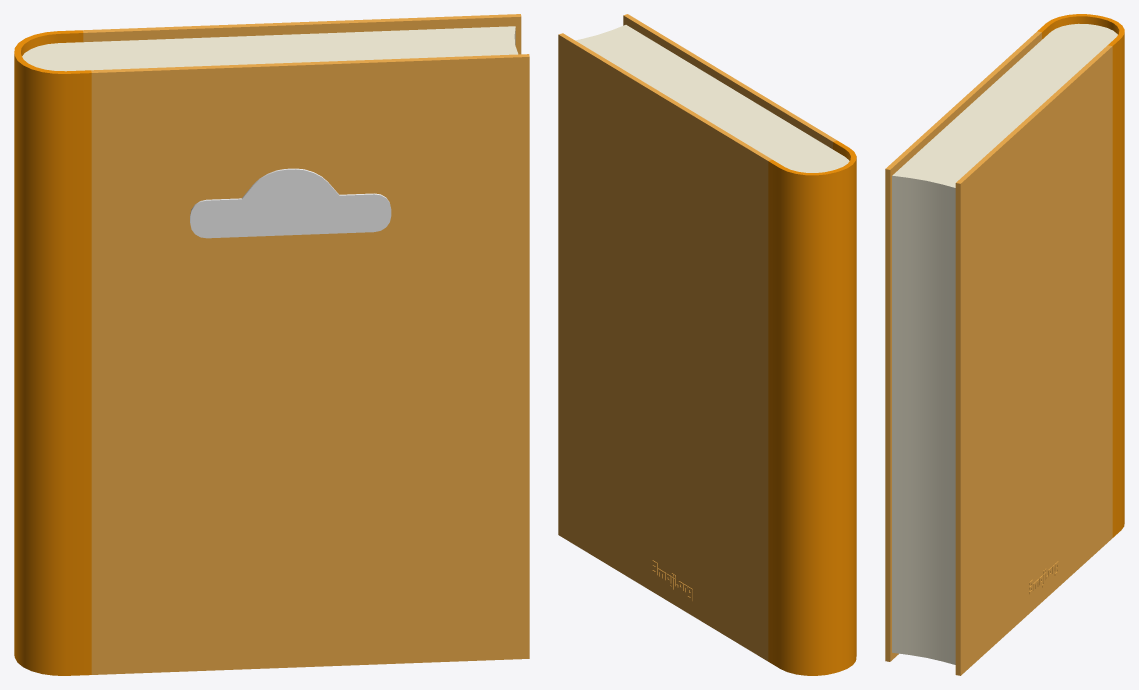
Rendered from notebook_with_decorative_cover.glb.
3 views of the same model, side by side, from view 1: azimuth 30°, elevation 25°; view 2: azimuth 150°, elevation 25°; view 3: azimuth 270°, elevation 25° (orthographic). The views are drawn at different scales.
Parts seen in each view (by area): view 1: Cube.945; view 2: Cube.945; view 3: Cube.945.
Boxes of the visible parts, x1,y1,x2,y2 form: Cube.945: [14, 14, 529, 675]; Cube.945: [558, 14, 856, 675]; Cube.945: [885, 14, 1124, 675].
Bounding box in the file's own units: 1.55 × 2.1 × 0.9263.
Materials: 1 (1 with a texture image).
